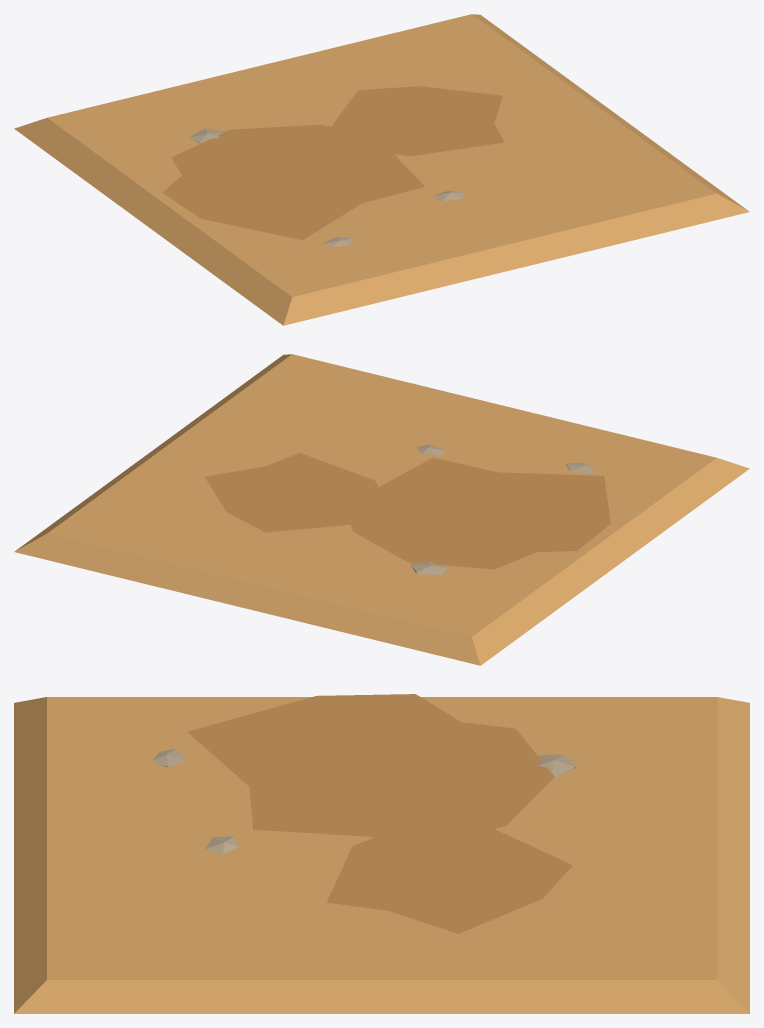
File: path_b.glb
3 renders of one model, top to bottom at view 1: azimuth 30°, elevation 25°; view 2: azimuth 150°, elevation 25°; view 3: azimuth 270°, elevation 25°, orthographic. The views are drawn at different scales.
Visible parts, largest first — view 1: path_b; view 2: path_b; view 3: path_b.
Boxes of the visible parts, x1,y1,x2,y2 form: path_b: [14, 14, 749, 325]; path_b: [14, 354, 749, 665]; path_b: [14, 694, 749, 1013].
Bounding box in the file's own units: 1 × 0.039 × 1.
